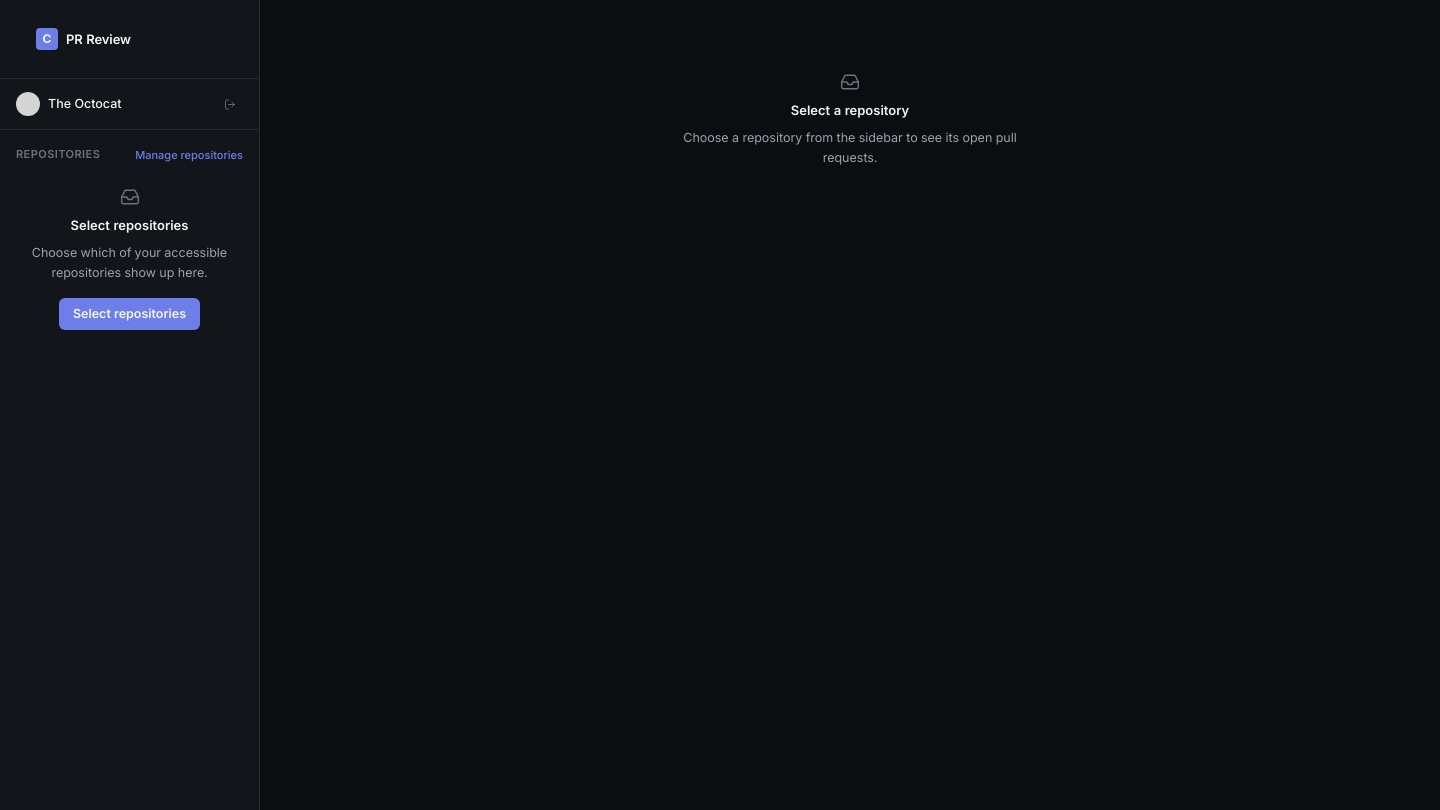
Scenario: App — repository selection (Milestone 7A) › lets the user open the manage-repositories selector, select a repository, and see the sidebar update
The width and height of the screenshot is (1440, 810).
Click the button "Select repositories" at [129, 314], box [59,298,200,330]
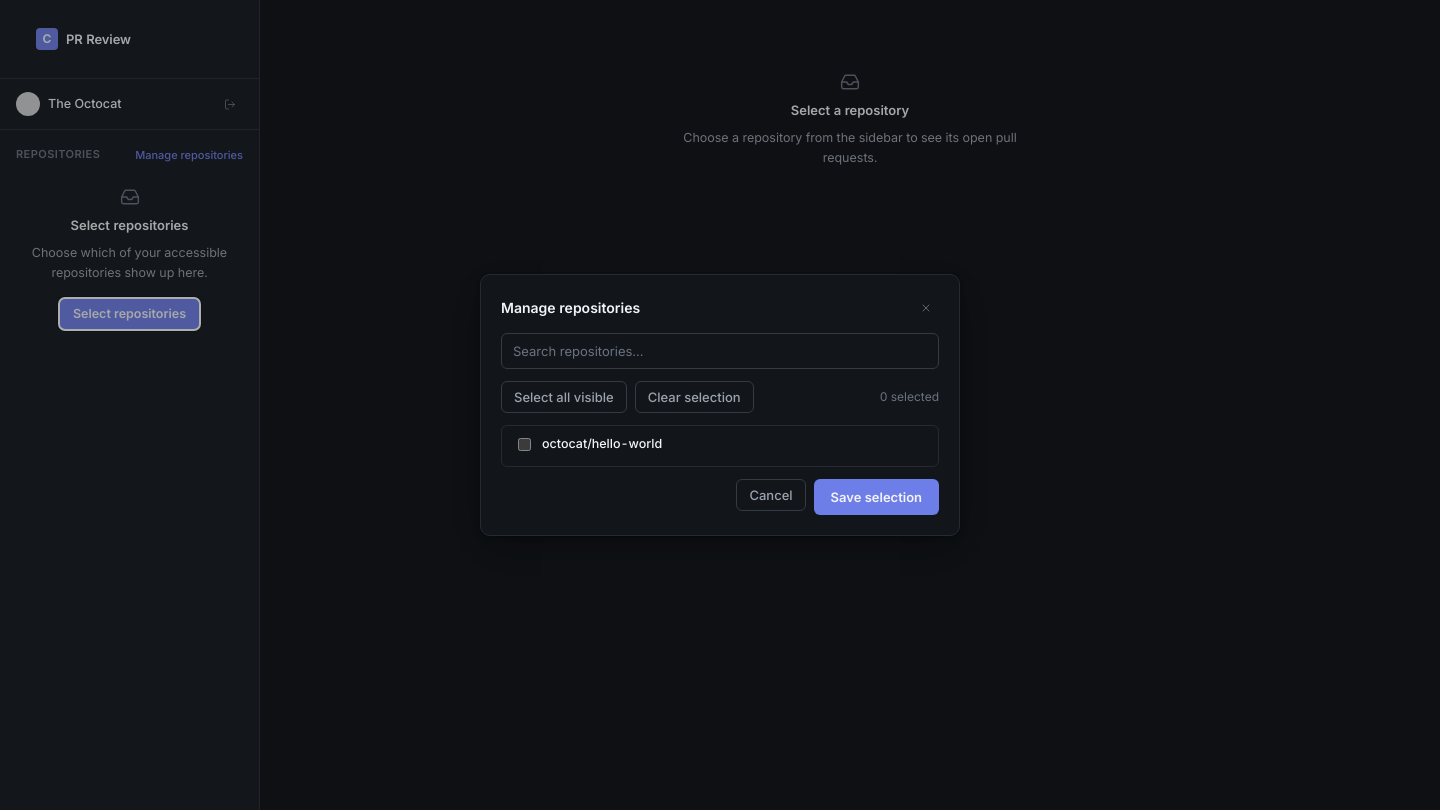
Check: the dialog "Manage repositories" is shown, box [480,274,960,536]
Click the checkbox labelled "octocat/hello-world" at [524, 444], box [518,438,531,450]
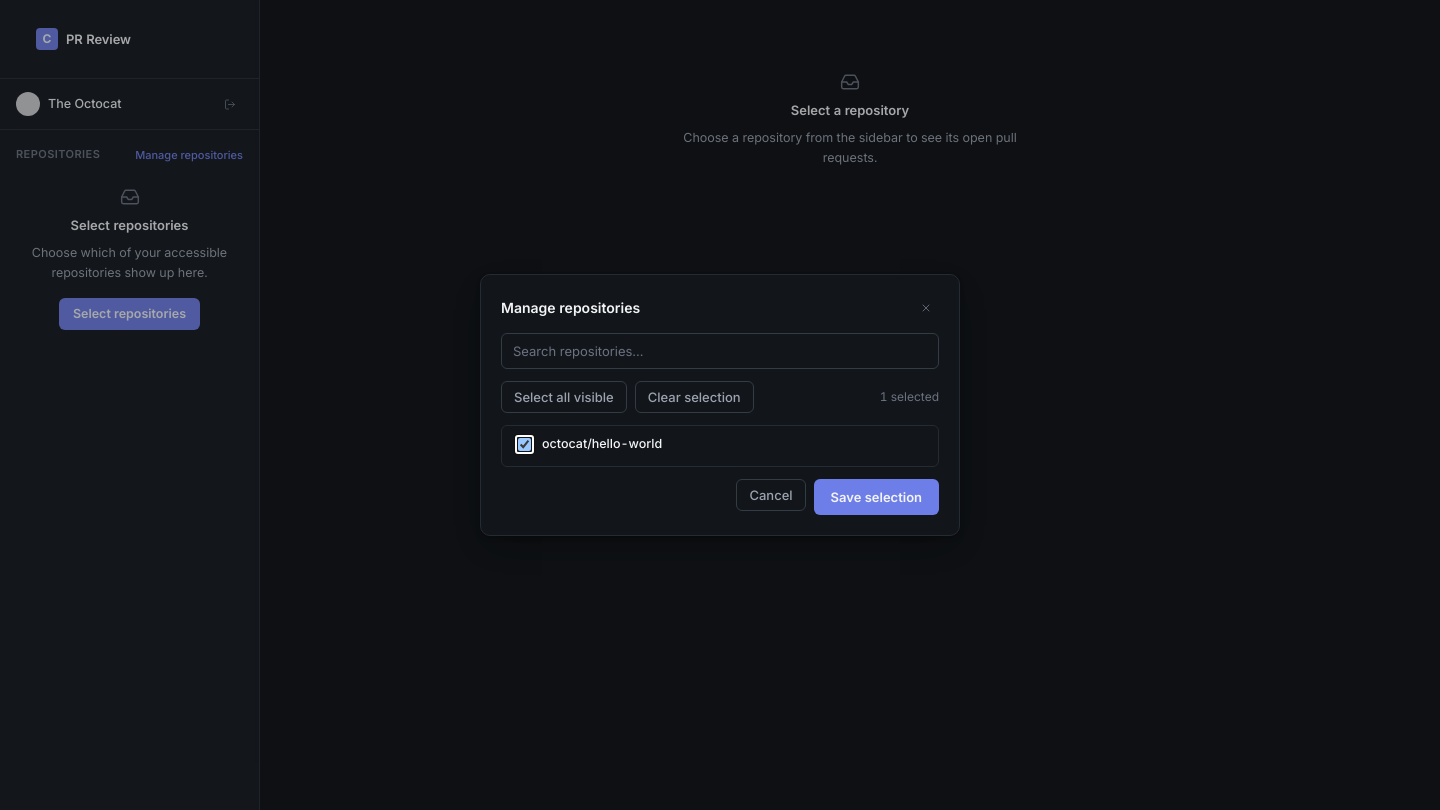
Click the button "Save selection" at [876, 497], box [814,479,939,515]
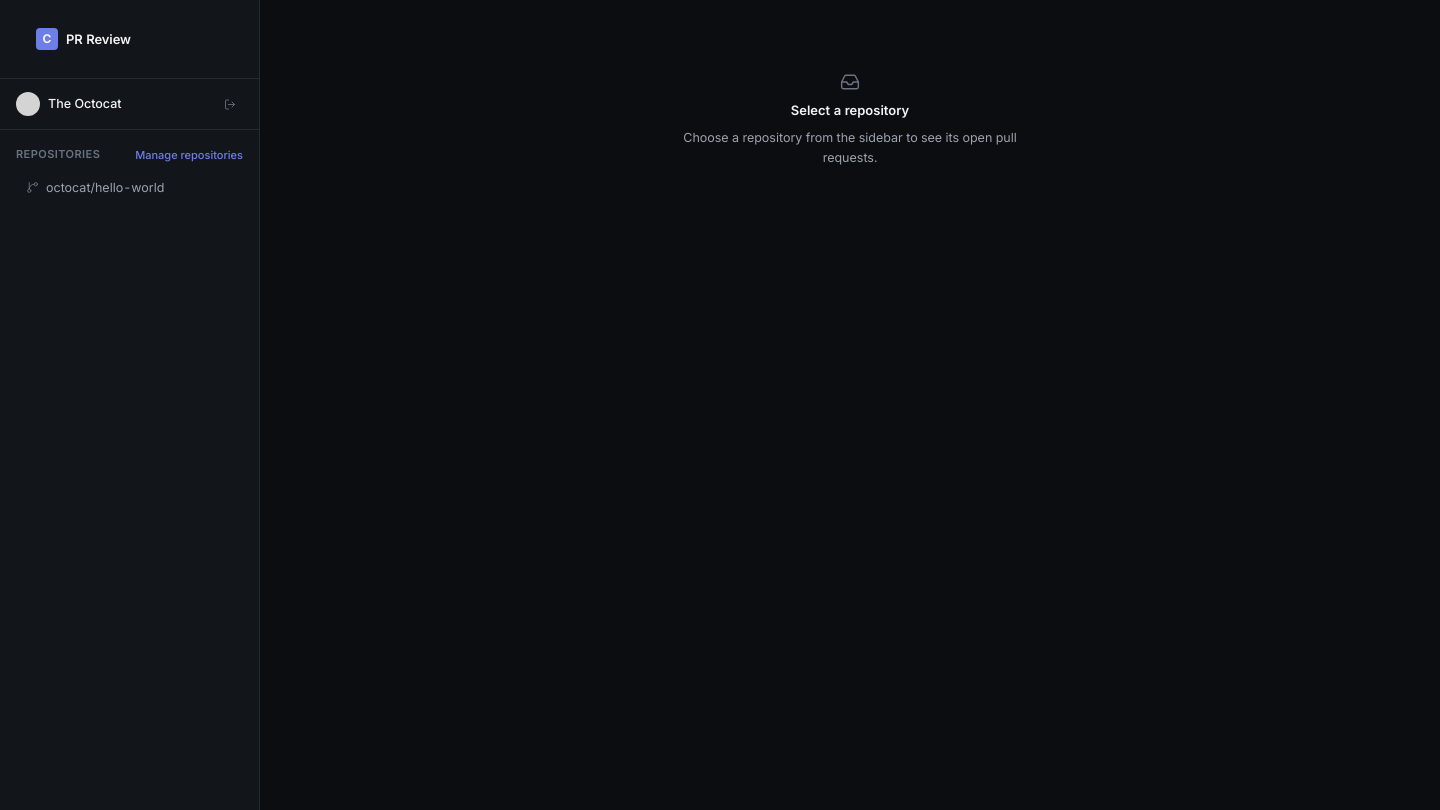
Check: the text "octocat/hello-world" is shown, box [46,178,164,197]
Check: the dialog is gone
